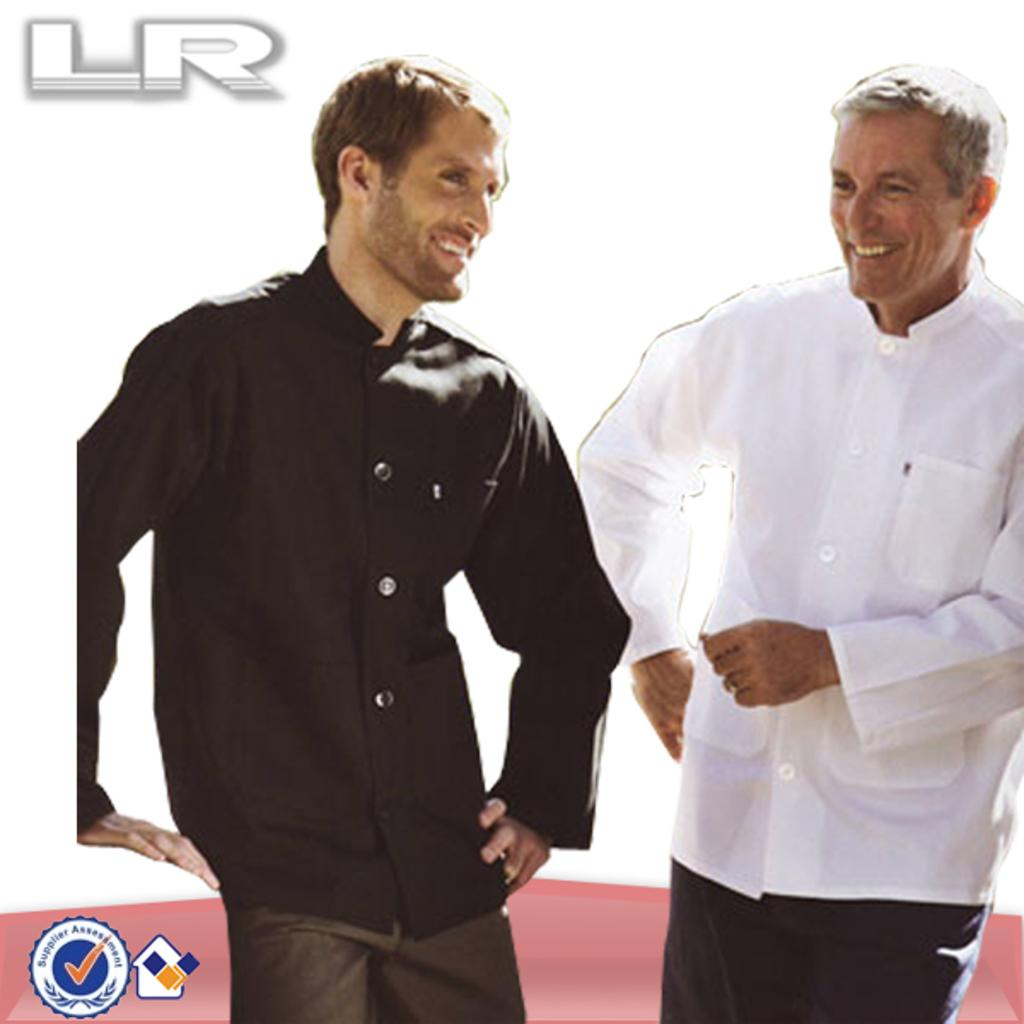face: (830, 106, 972, 304), (378, 78, 502, 298)
